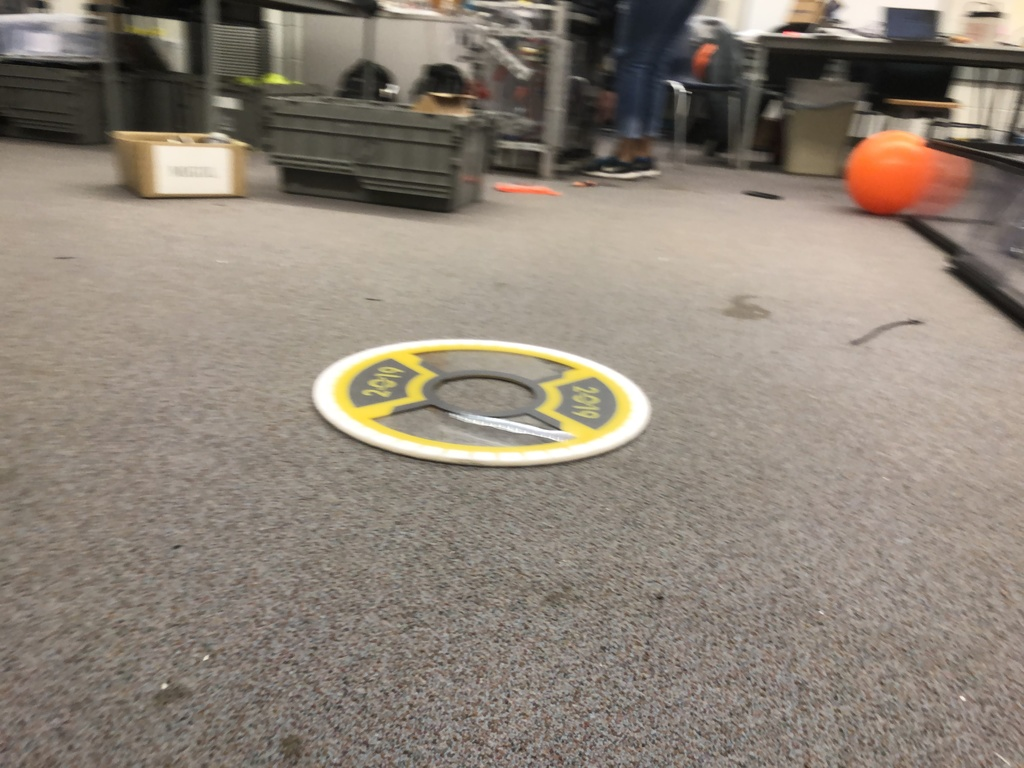hatch_panel: (293, 330, 669, 487)
